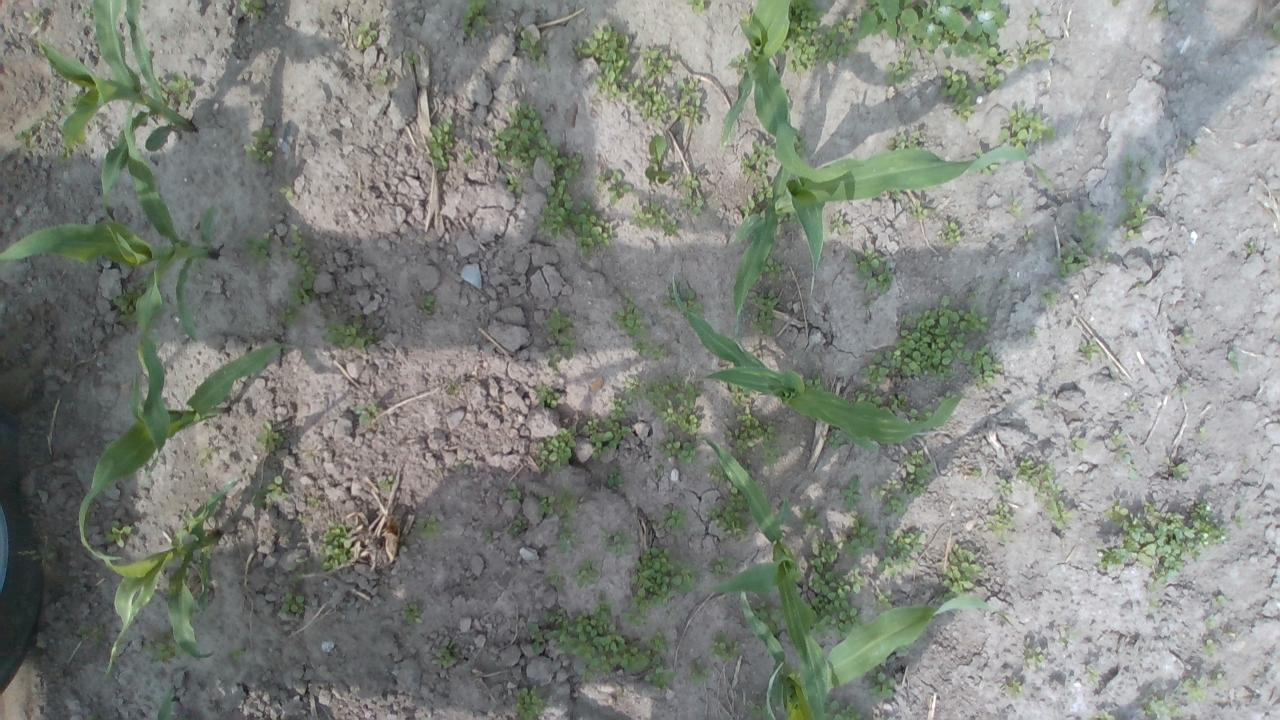Maize: (730, 22, 1032, 314), (0, 90, 226, 342), (666, 268, 968, 452), (79, 335, 302, 583), (698, 437, 832, 720), (737, 583, 993, 720), (38, 0, 198, 197), (105, 478, 241, 681), (716, 0, 794, 143)
Weeds: (1097, 498, 1250, 590), (526, 594, 668, 684), (882, 294, 988, 386), (851, 0, 1013, 58), (542, 146, 614, 257), (627, 544, 699, 624), (803, 556, 867, 644), (573, 20, 632, 103), (489, 100, 552, 168), (1014, 455, 1070, 530), (642, 373, 704, 434), (536, 488, 585, 552), (282, 226, 318, 312), (784, 1, 826, 71), (727, 400, 781, 454), (996, 104, 1056, 150), (878, 527, 928, 579), (939, 542, 985, 598), (706, 486, 752, 538), (1118, 169, 1150, 243), (1053, 233, 1105, 278), (940, 65, 980, 123), (1012, 16, 1053, 68), (848, 248, 894, 294), (544, 306, 578, 368), (536, 424, 578, 474), (626, 79, 672, 121), (318, 522, 355, 574), (843, 510, 881, 560), (424, 116, 456, 170), (582, 415, 621, 459), (324, 320, 377, 352), (824, 14, 858, 63), (968, 342, 1004, 388), (630, 202, 676, 238), (900, 450, 934, 498), (644, 132, 674, 184), (612, 294, 648, 336), (513, 683, 553, 720), (664, 277, 702, 315), (978, 50, 1012, 92), (676, 76, 704, 126), (984, 502, 1015, 546), (742, 138, 776, 178), (244, 126, 278, 166), (752, 288, 781, 334), (860, 349, 891, 392), (870, 481, 906, 518), (112, 284, 143, 326), (1174, 671, 1224, 697), (660, 434, 700, 466), (459, 0, 490, 41), (238, 233, 274, 268), (748, 597, 784, 632), (251, 472, 286, 508), (598, 170, 634, 205), (518, 28, 548, 68), (1106, 428, 1136, 468), (255, 419, 289, 454), (611, 374, 640, 415), (810, 538, 842, 575), (144, 632, 182, 663), (162, 70, 194, 106), (679, 175, 706, 216), (652, 506, 688, 536), (644, 658, 675, 691), (708, 632, 742, 662), (866, 669, 897, 701), (572, 558, 602, 591), (1146, 693, 1184, 719), (838, 474, 864, 512), (1021, 636, 1048, 672), (100, 521, 132, 551), (412, 513, 446, 541), (599, 527, 632, 555), (632, 337, 668, 362), (888, 54, 916, 86), (936, 218, 962, 250), (887, 130, 923, 152), (799, 503, 824, 534), (824, 700, 862, 720), (1034, 284, 1062, 311), (534, 386, 564, 411), (687, 657, 712, 687), (353, 20, 378, 49), (1071, 206, 1103, 228), (238, 0, 270, 21), (710, 556, 739, 579), (730, 382, 754, 408), (506, 512, 530, 538), (280, 592, 306, 616), (854, 387, 882, 409), (761, 256, 784, 282), (78, 623, 105, 645), (827, 210, 851, 234), (824, 426, 849, 449), (1148, 0, 1174, 22), (24, 12, 46, 38), (1060, 434, 1088, 454), (886, 393, 910, 415), (288, 560, 310, 583), (908, 404, 936, 422), (351, 403, 377, 422), (432, 648, 454, 670), (14, 128, 36, 150), (377, 472, 397, 496), (747, 698, 770, 718), (404, 602, 424, 625), (506, 172, 526, 195), (1080, 338, 1100, 360), (909, 201, 930, 221), (876, 592, 896, 612), (803, 372, 824, 391), (547, 567, 565, 589), (607, 466, 622, 492), (994, 477, 1014, 496), (505, 484, 525, 503), (978, 161, 1000, 178), (1200, 640, 1220, 658), (1224, 348, 1240, 370), (196, 446, 212, 468), (1170, 461, 1190, 478), (684, 0, 706, 15), (278, 183, 296, 201), (479, 530, 497, 548), (372, 68, 389, 87), (418, 293, 434, 313), (454, 458, 474, 474), (230, 650, 247, 668), (1177, 381, 1194, 398), (1184, 139, 1198, 158), (1008, 196, 1021, 216), (1212, 594, 1230, 608), (1082, 662, 1096, 680), (402, 48, 416, 66), (1270, 18, 1280, 41), (1180, 325, 1192, 344), (1002, 683, 1018, 697), (1096, 710, 1116, 720), (1021, 223, 1030, 243), (968, 466, 982, 478), (1203, 616, 1218, 626)
